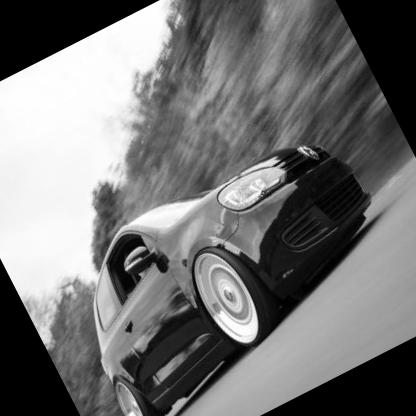car: (21, 104, 416, 416)
